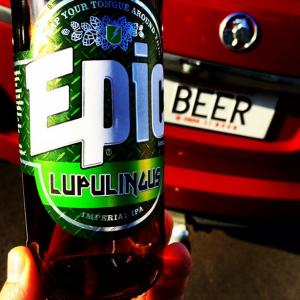Vehicle-registration-plate: (165, 76, 286, 140)
